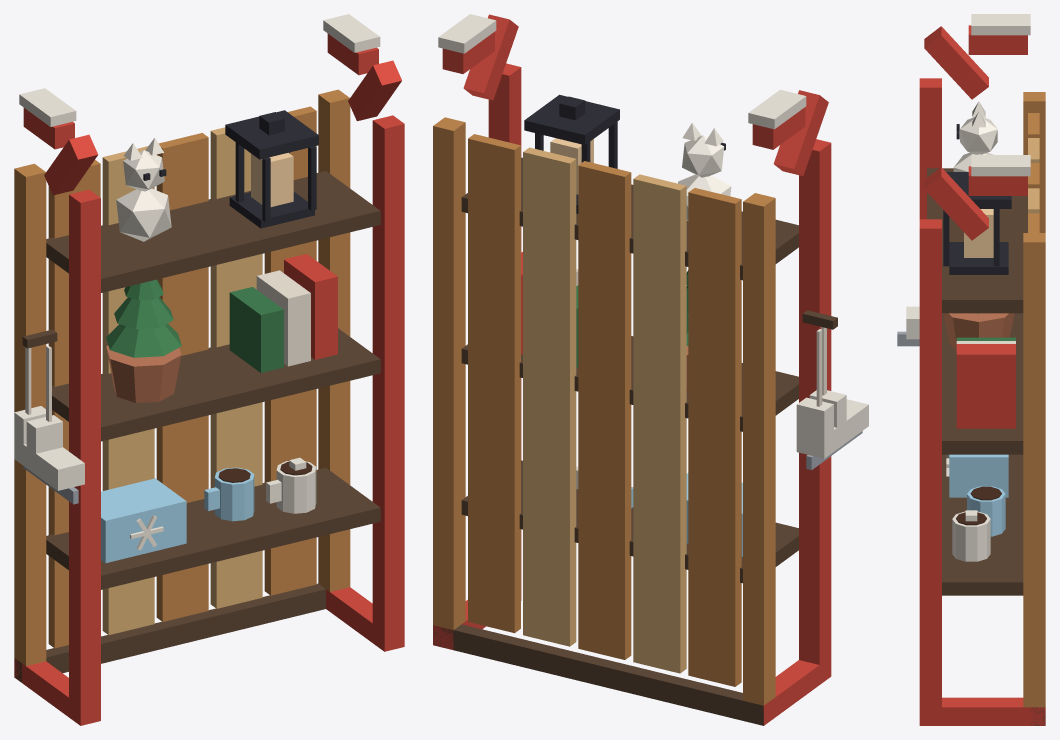
File: CatCafe_Decor_SledShelf.glb
The picture shows the model from 3 angles, left to right: view 1: azimuth 30°, elevation 25°; view 2: azimuth 150°, elevation 25°; view 3: azimuth 270°, elevation 25°; orthographic projection. The views are drawn at different scales.
Visible parts, largest first — view 1: CatCafe_Decor_SledShelf, CatCafe_Decor_SledShelf_Glow; view 2: CatCafe_Decor_SledShelf, CatCafe_Decor_SledShelf_Glow; view 3: CatCafe_Decor_SledShelf, CatCafe_Decor_SledShelf_Glow.
Boxes of the visible parts, x1=… form: CatCafe_Decor_SledShelf: x1=14, y1=14, x2=404, y2=725; CatCafe_Decor_SledShelf_Glow: x1=251, y1=152, x2=293, y2=206; CatCafe_Decor_SledShelf: x1=433, y1=14, x2=868, y2=725; CatCafe_Decor_SledShelf_Glow: x1=550, y1=138, x2=593, y2=194; CatCafe_Decor_SledShelf: x1=897, y1=14, x2=1045, y2=725; CatCafe_Decor_SledShelf_Glow: x1=964, y1=209, x2=993, y2=257.
Bounding box in the file's own units: 2.64 × 4.17 × 1.
Materials: 1 (1 with a texture image).
